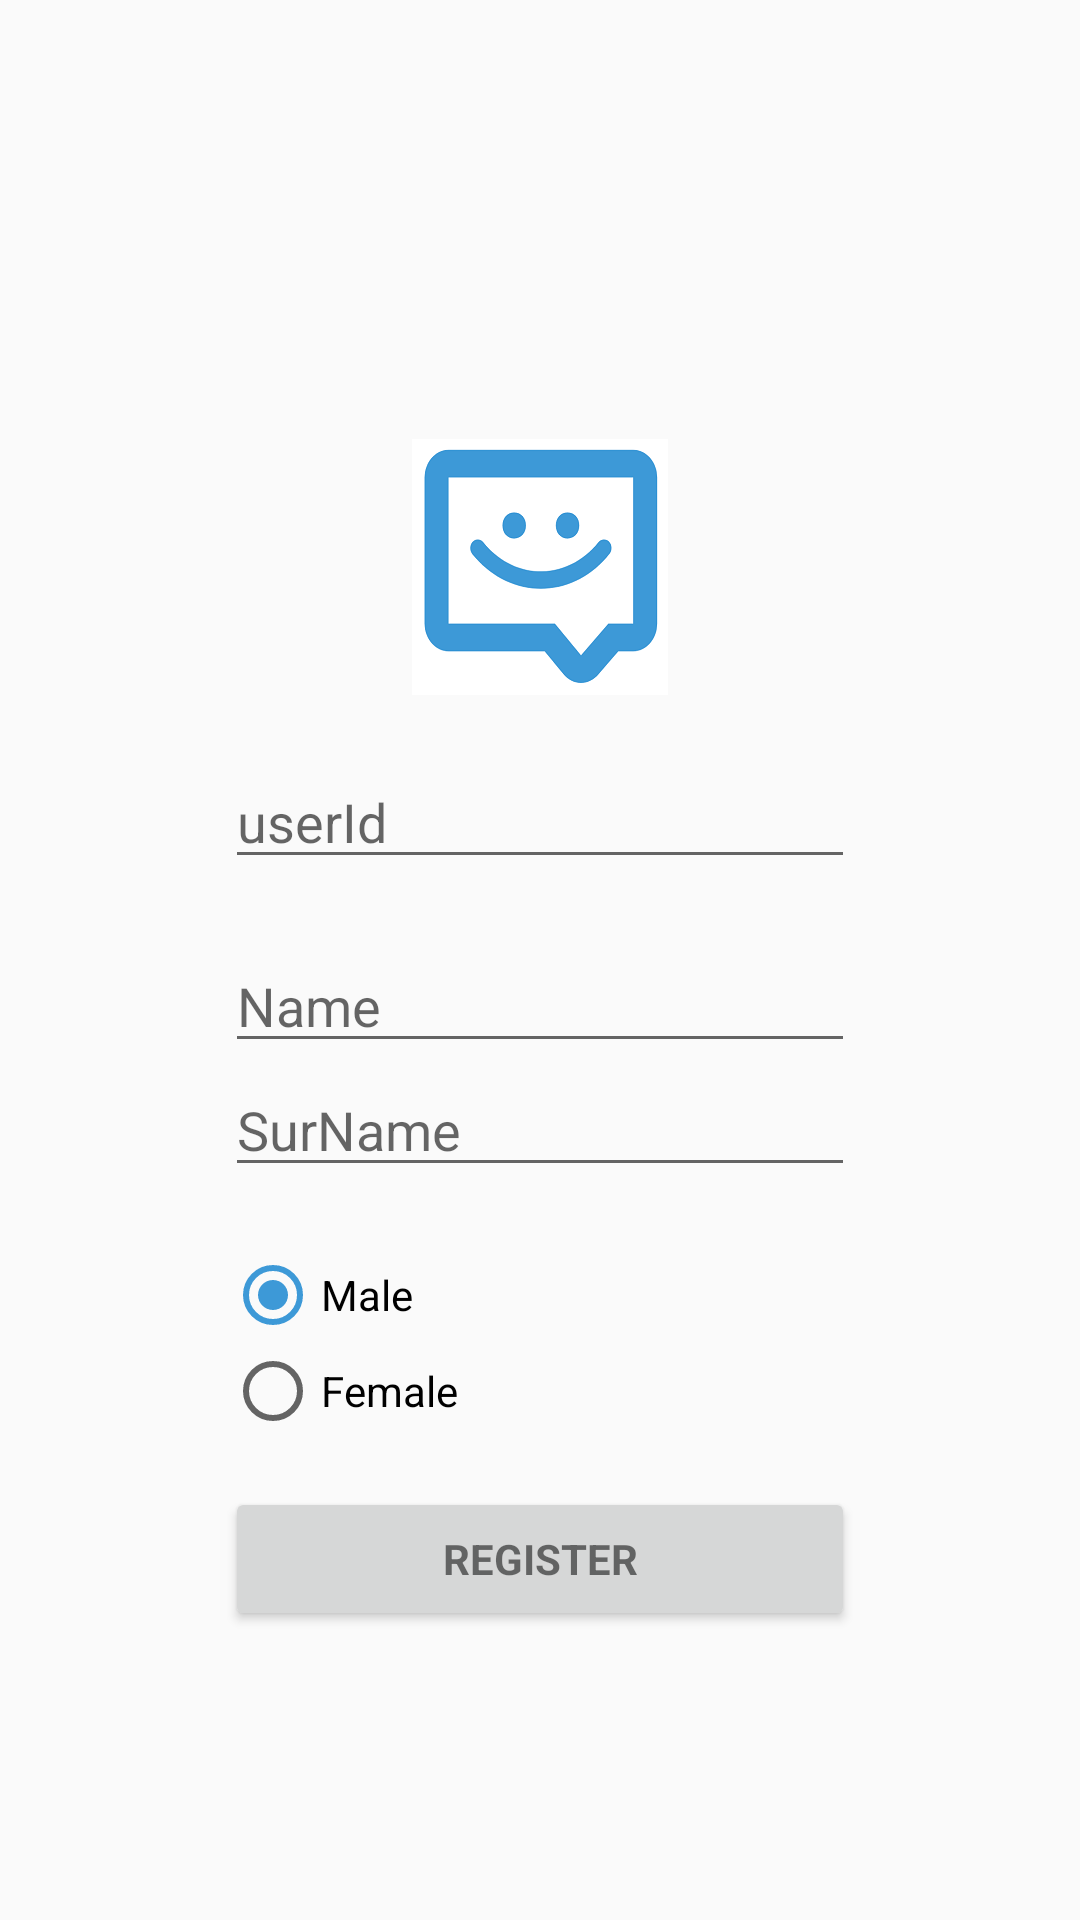

Point at icon controls on the screen. Image size 1080*1920, points as (x,y).
mqttchat: (541,566)
